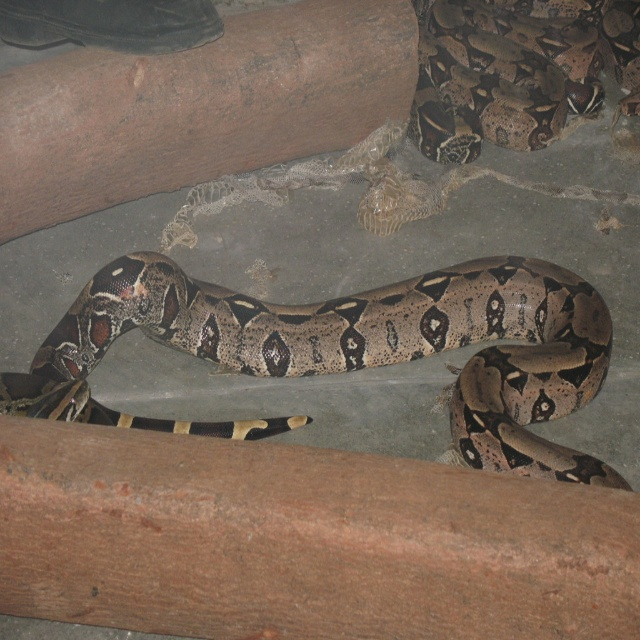Snake: (0, 251, 633, 493), (406, 0, 638, 164)
